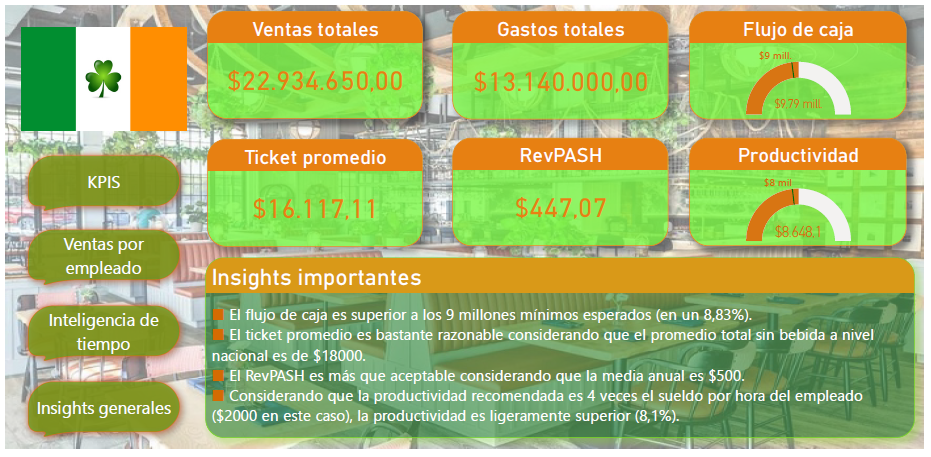

This screenshot's page, from the dashboard's own definition file:
{"tool":"powerbi","page":{"name":"KPIS","canvas":[1450,700],"ordinal":0},"visuals":[{"type":"gauge","title":"Flujo de caja","fields":{"Y":["ventas.Flujo de caja"],"TargetValue":["ventas.Valor MIN"]},"box":[1079.7,9.4,343.8,170.3],"z":0},{"type":"card","title":"Ticket promedio","fields":{"Values":["ventas.Ticket Promedio"]},"box":[318.9,210.9,340,170],"z":1000},{"type":"card","title":"RevPASH","fields":{"Values":["ventas.RevPASH"]},"box":[706.2,209.4,340.6,170.3],"z":2000},{"type":"image","box":[20.3,0,270.3,232.8],"z":3000},{"type":"textbox","title":"Insights importantes","box":[315.6,398.4,1120.3,284.4],"z":4000},{"type":"shape","box":[20.3,457.8,270.3,120.3],"z":5000},{"type":"shape","box":[20.3,337.5,270.3,120.3],"z":6000},{"type":"shape","box":[20.3,578.1,270.3,120.3],"z":7000},{"type":"card","title":"Ventas totales","fields":{"Values":["ventas.Total de Ventas"]},"box":[318.8,9.4,340.6,170],"z":8000},{"type":"card","title":"Gastos totales","fields":{"Values":["ventas.Gastos Totales"]},"box":[706.2,9.4,340.6,170.3],"z":9000},{"type":"shape","box":[20.3,221.9,270.3,120.3],"z":10000},{"type":"gauge","title":"Productividad","fields":{"TargetValue":["ventas.Productividad esperada"],"Y":["ventas.Productividad"]},"box":[1079.7,209.4,343.8,170.3],"z":11000}]}

Visuals, with their boxes in screenshot pixels (x1, y1, x2, y2), scaled from the page's 1450x700 canvas onto the 931x457 screenshot:
"Flujo de caja" gauge: bbox=(693, 6, 914, 117)
"Ticket promedio" card: bbox=(205, 138, 423, 249)
"RevPASH" card: bbox=(453, 137, 672, 248)
image: bbox=(13, 0, 187, 152)
"Insights importantes" textbox: bbox=(203, 260, 922, 446)
shape: bbox=(13, 299, 187, 377)
shape: bbox=(13, 220, 187, 299)
shape: bbox=(13, 377, 187, 456)
"Ventas totales" card: bbox=(205, 6, 423, 117)
"Gastos totales" card: bbox=(453, 6, 672, 117)
shape: bbox=(13, 145, 187, 223)
"Productividad" gauge: bbox=(693, 137, 914, 248)
